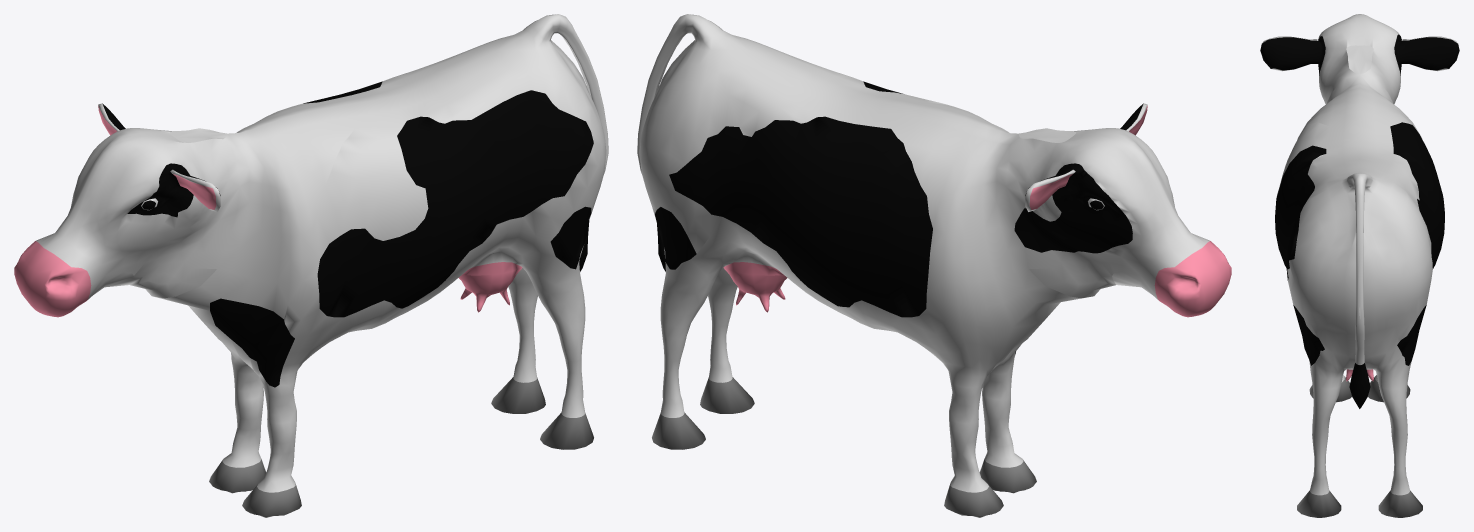
3 views of the same model, side by side, from view 1: azimuth 30°, elevation 25°; view 2: azimuth 150°, elevation 25°; view 3: azimuth 270°, elevation 25° (orthographic). The views are drawn at different scales.
Parts seen in each view (by area): view 1: Box003; view 2: Box003; view 3: Box003.
Part boxes in pixels (left/top/right/bottom): Box003: left=14, top=14, right=608, bottom=517; Box003: left=637, top=14, right=1231, bottom=517; Box003: left=1260, top=14, right=1459, bottom=517.
Bounding box in the file's own units: 39.25 × 26.37 × 13.91.
